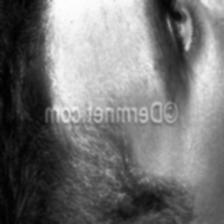Non-Cancerous Skin Condition: (42, 18, 65, 99)
